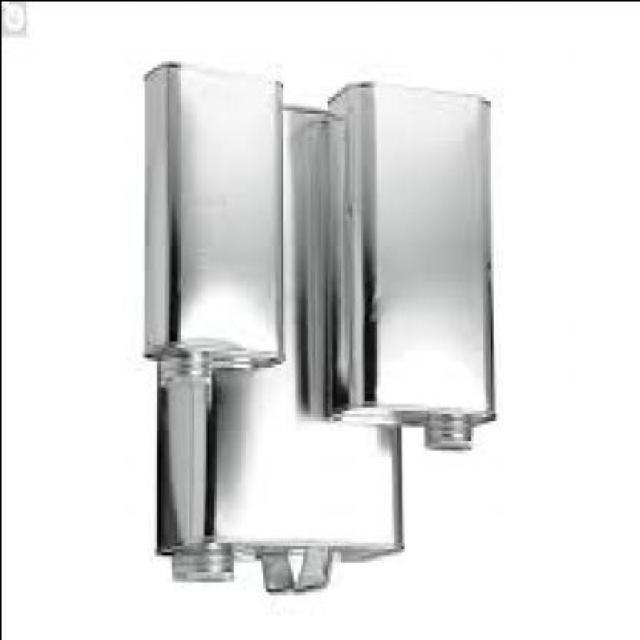metal: (158, 107, 404, 596), (329, 83, 497, 452), (146, 63, 288, 386)
